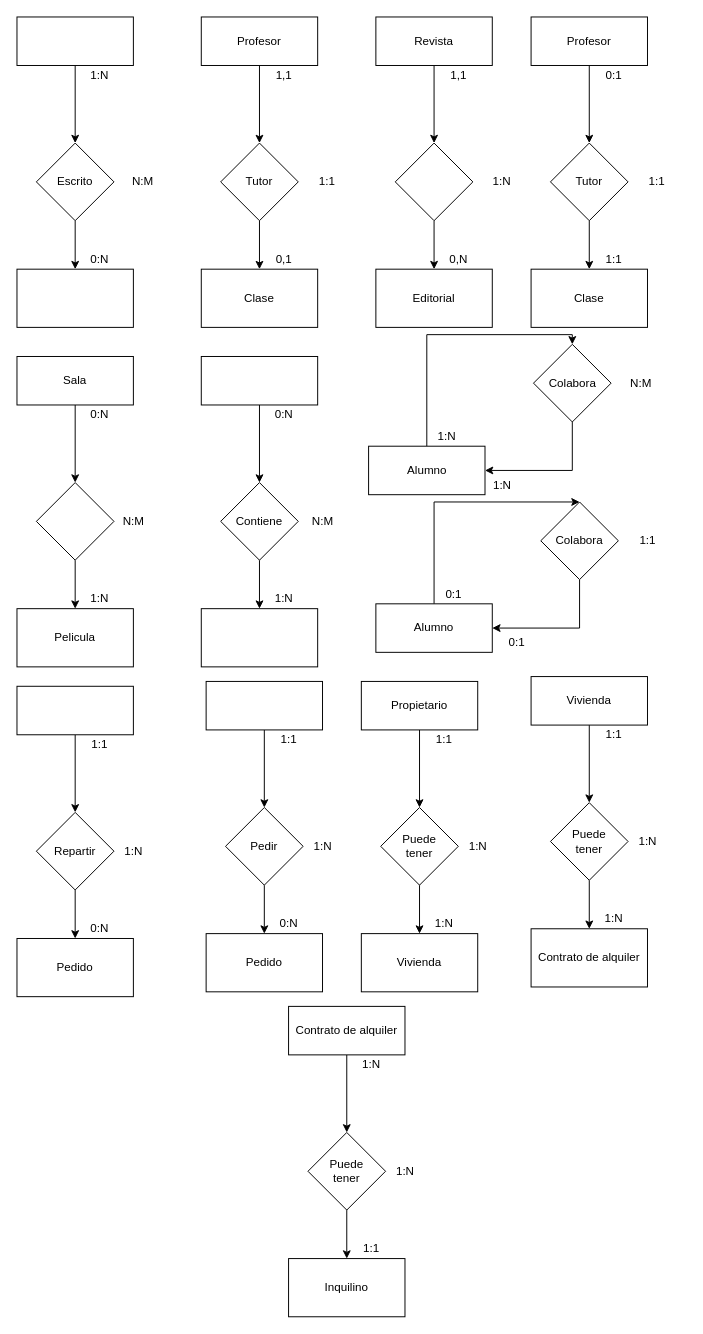
This 703x1334 diagram has some shape labels left out. The shapes that lost their labels are listed below. From the top down, each one's box as (x1, y1, x2, y2) in pixels, then its label:
(16, 16, 133, 65): Libro
(394, 142, 473, 221): Editada
(16, 268, 133, 327): Autores
(200, 356, 318, 405): Pizza
(35, 482, 114, 560): Proyecta
(200, 608, 318, 667): Ingredientes
(16, 685, 133, 735): Repartidor
(205, 680, 323, 730): Cliente
